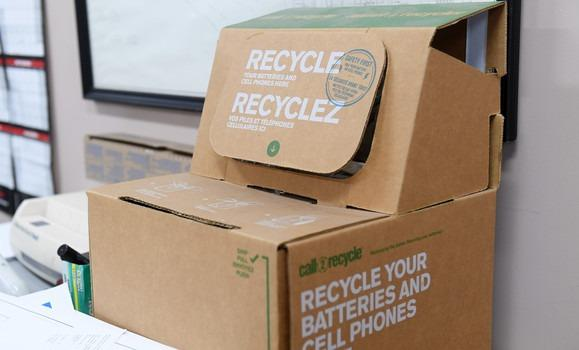cardboard: (88, 174, 494, 349), (192, 0, 503, 212)
